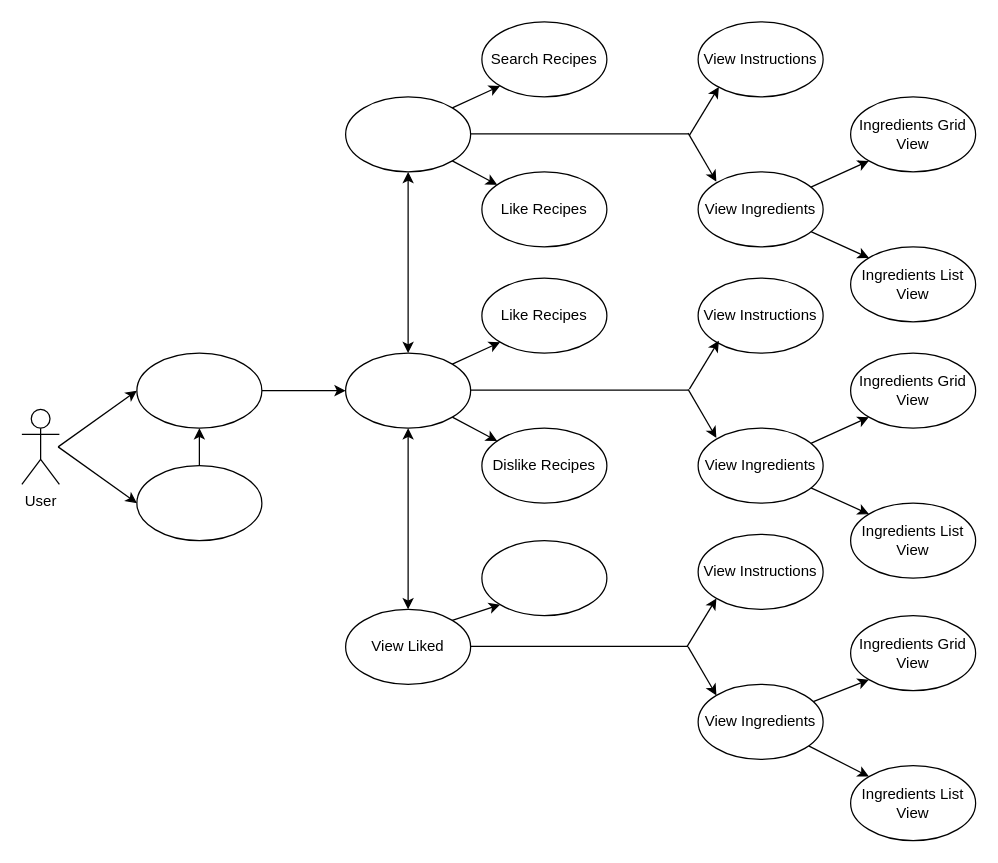
Image size: 998x863. Some labels were removed from this diagram. The centre of each missing label's shape, as x and y in pixels:
Remove Recipes: the point at 544,577
Sign Up: the point at 199,502
Swipe (Main Page): the point at 407,390
User Login: the point at 199,390
View Recipes: the point at 407,134
